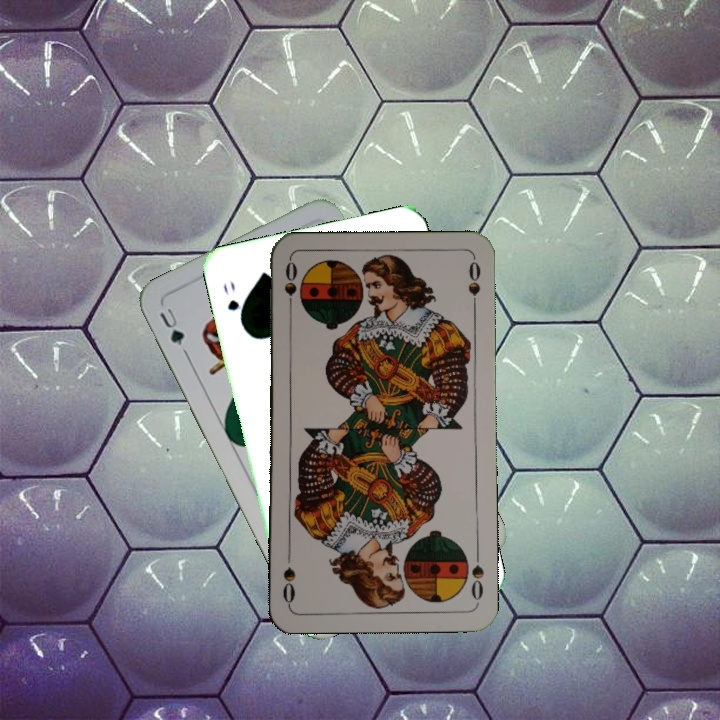GO: (219, 277, 246, 328)
GU: (155, 303, 190, 357)
SO: (280, 258, 300, 317), (467, 546, 486, 605)
